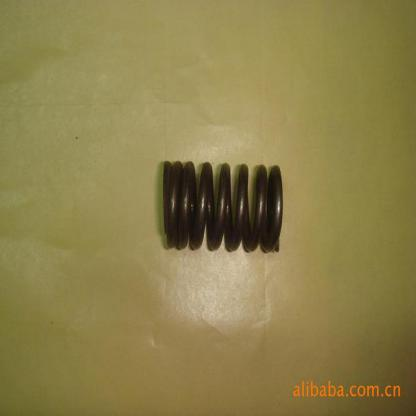FOD: (160, 158, 285, 255)
